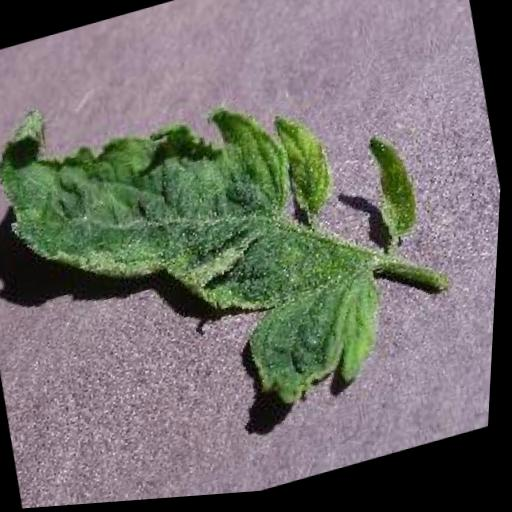Mosaic Virus: (0, 6, 462, 479)
